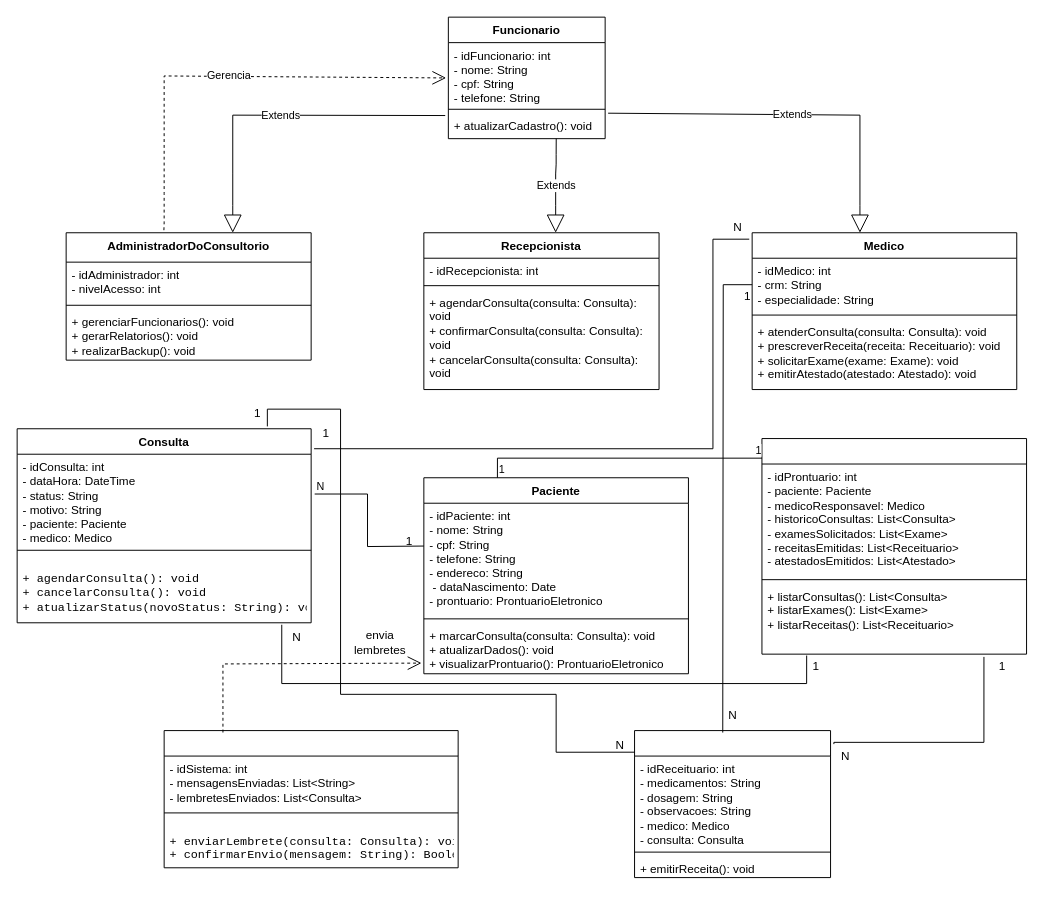
Image size: 1044x898. Some labels were removed from this diagram. The shapes that lost their labels are listed below. From the top down, each one's box as (x1, y1, x2, y2) in pixels, then its label:
(761, 438, 1027, 654): ProntuarioEletronico
(163, 730, 458, 868): SistemaDeComunicacao
(634, 730, 831, 878): Receiturario
